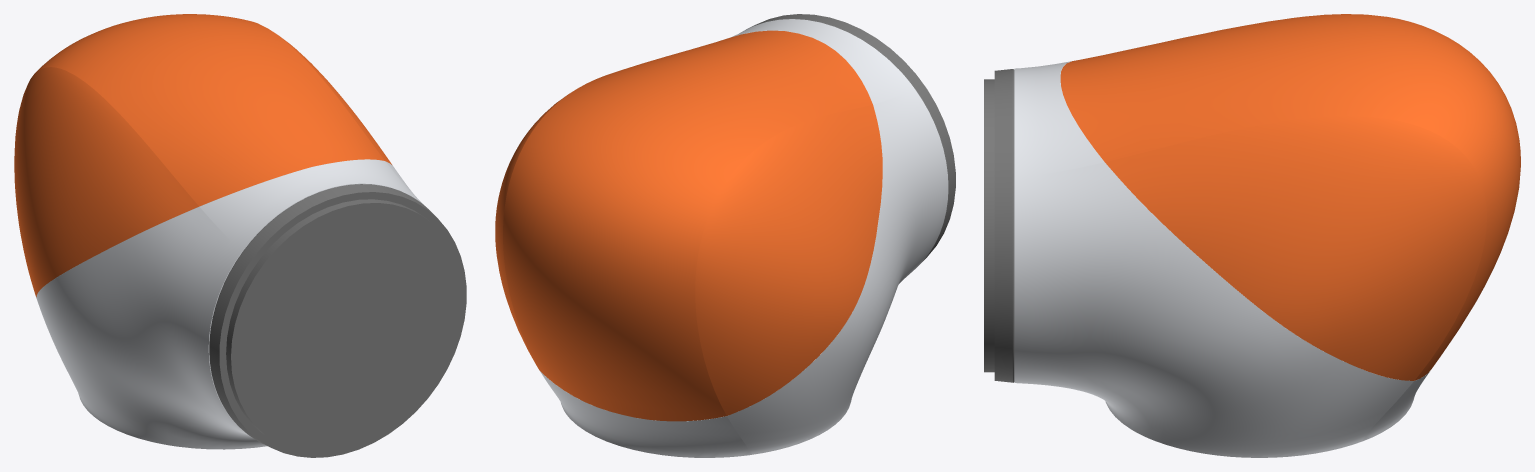
3 views of the same model, side by side, from view 1: azimuth 30°, elevation 25°; view 2: azimuth 150°, elevation 25°; view 3: azimuth 270°, elevation 25° (orthographic). The views are drawn at different scales.
Parts seen in each view (by area): view 1: link_6; view 2: link_6; view 3: link_6.
Part boxes in pixels (<box>): link_6: <box>14,14,466,457</box>; link_6: <box>495,14,955,457</box>; link_6: <box>984,14,1520,457</box>.
Bounding box in the file's own units: 0.1323 × 0.1376 × 0.1775.
